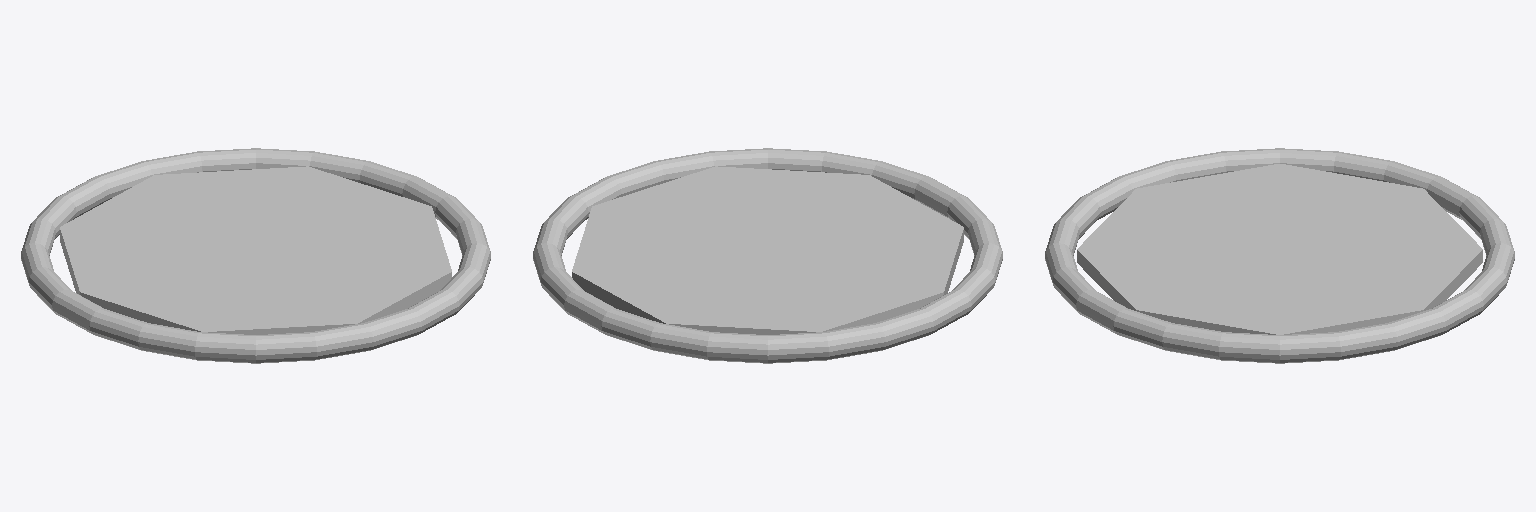
Rendered from Trampoline.obj.
3 renders of one model, left to right at view 1: azimuth 30°, elevation 25°; view 2: azimuth 150°, elevation 25°; view 3: azimuth 270°, elevation 25°, orthographic.
Parts seen in each view (by area): view 1: Trampoline; view 2: Trampoline; view 3: Trampoline.
Boxes of the visible parts, x1=… form: Trampoline: x1=21, y1=148, x2=490, y2=363; Trampoline: x1=533, y1=148, x2=1002, y2=363; Trampoline: x1=1045, y1=148, x2=1514, y2=363.
Size of the model in its own units: 1.6 by 0.0972 by 1.6.